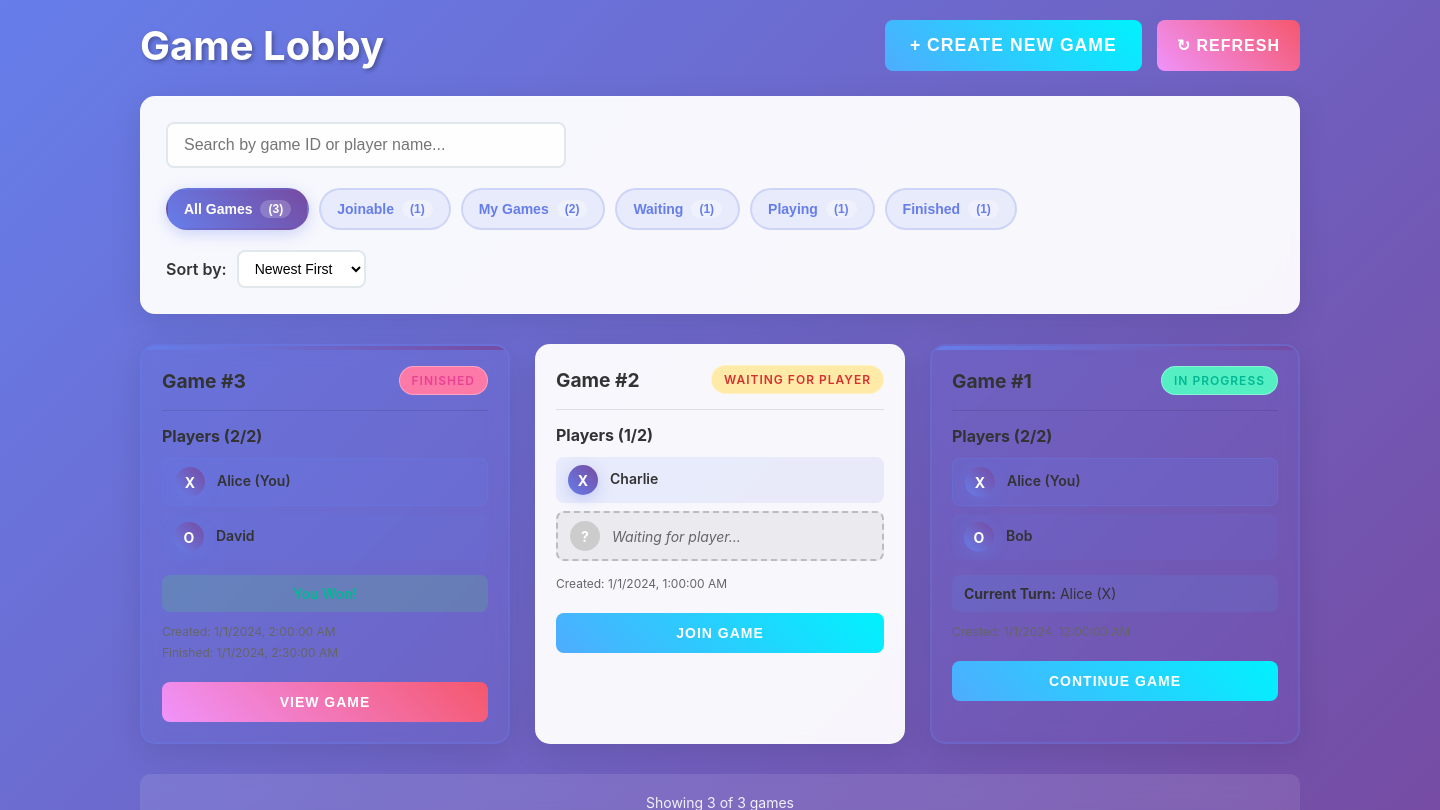
it: GameList Filtering › filters by joinable games
The image size is (1440, 810).
Click the button "Joinable (1)": point(385, 209) [319,188,451,230]
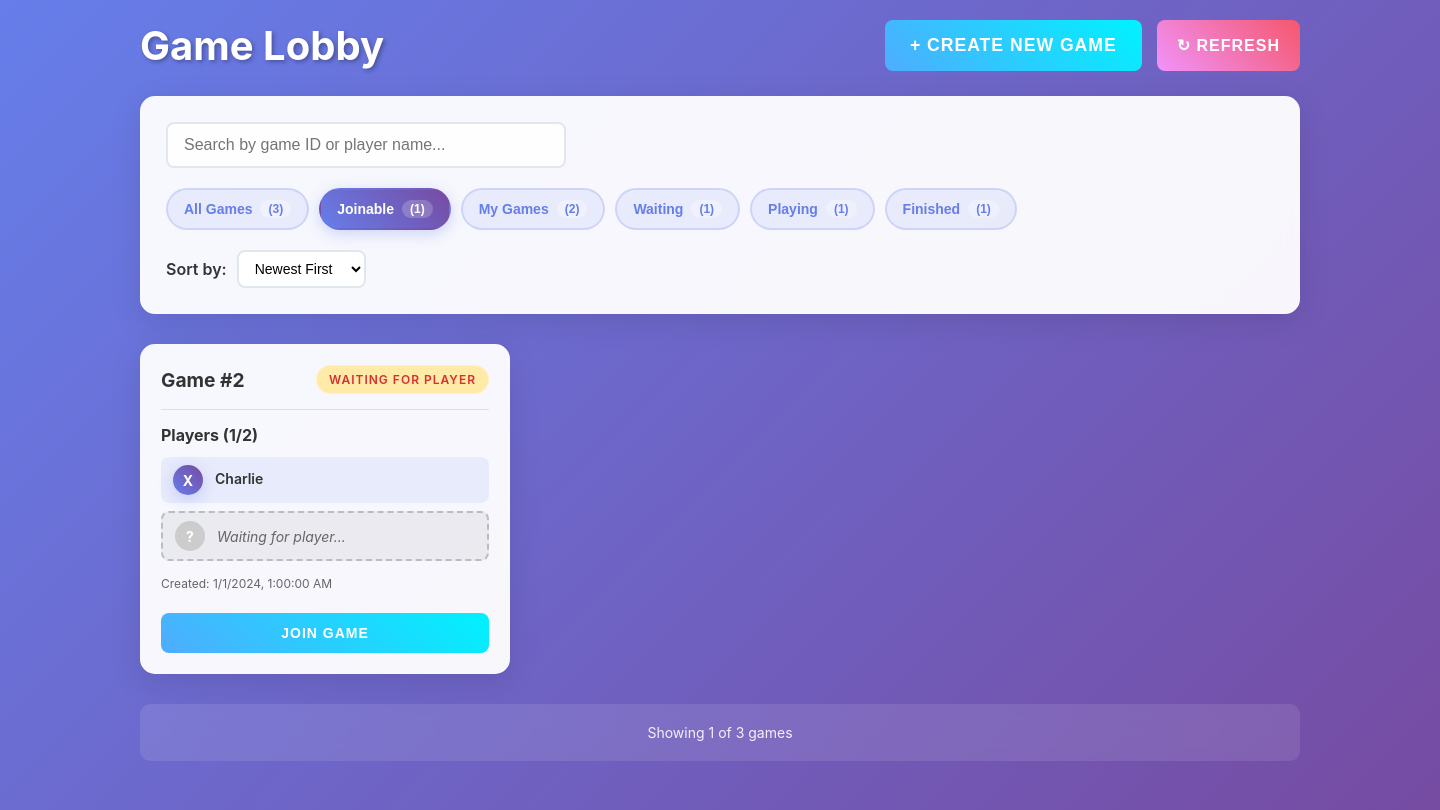
Expected: the text "Game #2" is shown, [161,368,245,392]
Result: the text "Game #1" is gone
Result: the text "Game #3" is gone
